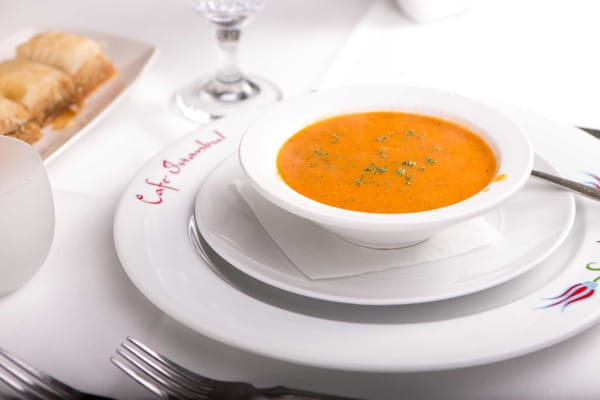burger: (109, 336, 304, 398)
sushi: (237, 82, 535, 250)
